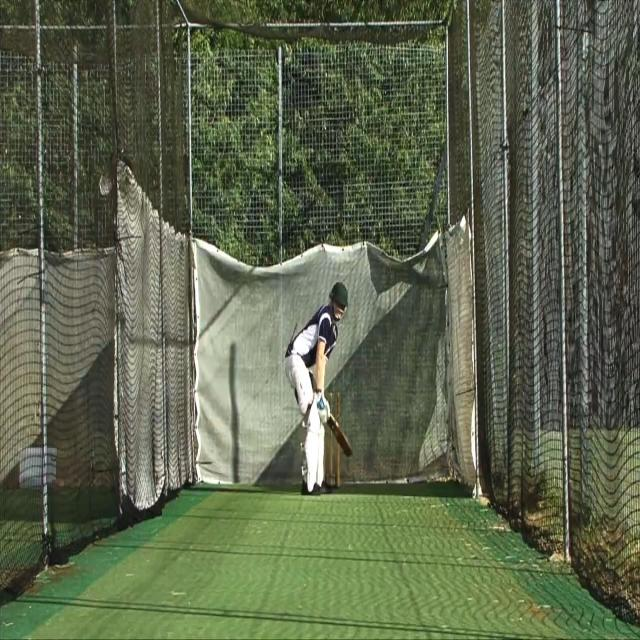batsman: (284, 279, 353, 498)
